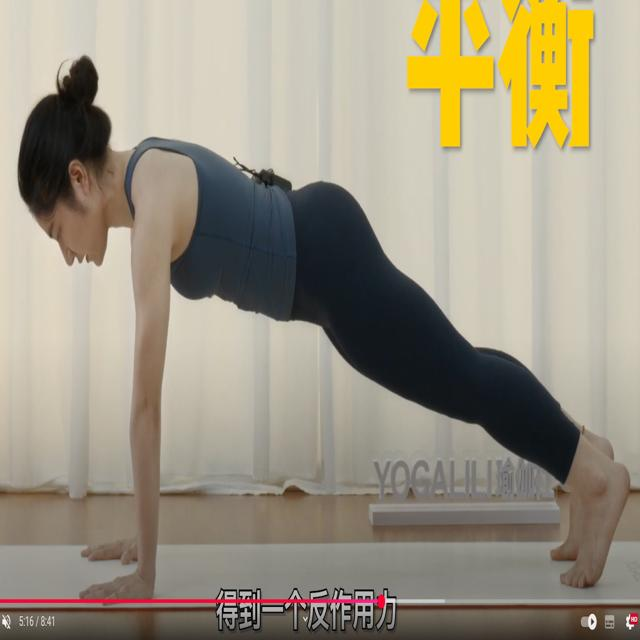Plank_Pose: (1, 54, 640, 616)
